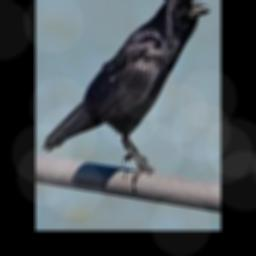Crow: (41, 0, 210, 181)
